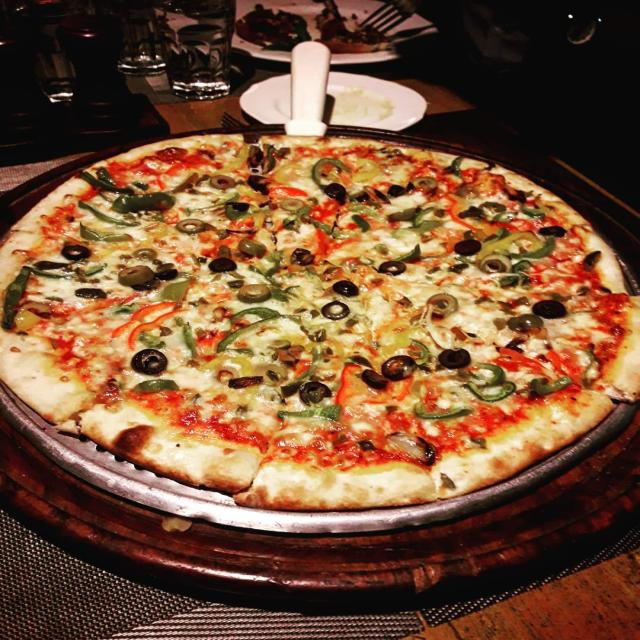black_olives: (134, 349, 170, 374), (383, 358, 415, 379), (440, 349, 470, 371), (302, 382, 330, 403), (241, 286, 272, 302), (362, 370, 388, 388), (324, 303, 348, 320), (210, 258, 242, 270), (538, 302, 565, 314), (392, 182, 412, 198), (455, 242, 482, 253), (330, 186, 347, 202), (383, 262, 405, 274), (63, 248, 92, 257), (76, 290, 108, 298), (337, 284, 358, 296), (540, 228, 567, 235), (213, 260, 234, 268), (352, 192, 366, 201)
green_olives: (119, 263, 153, 290), (428, 294, 459, 314), (260, 366, 288, 384), (177, 218, 206, 234), (483, 259, 506, 275), (210, 175, 235, 189), (282, 198, 302, 212)
pizza: (0, 134, 640, 513)
